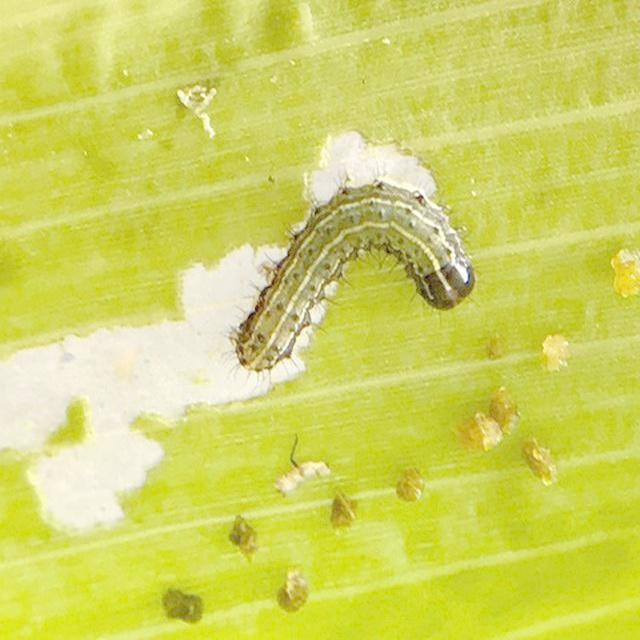gusano_cogollero: (236, 182, 476, 370)
